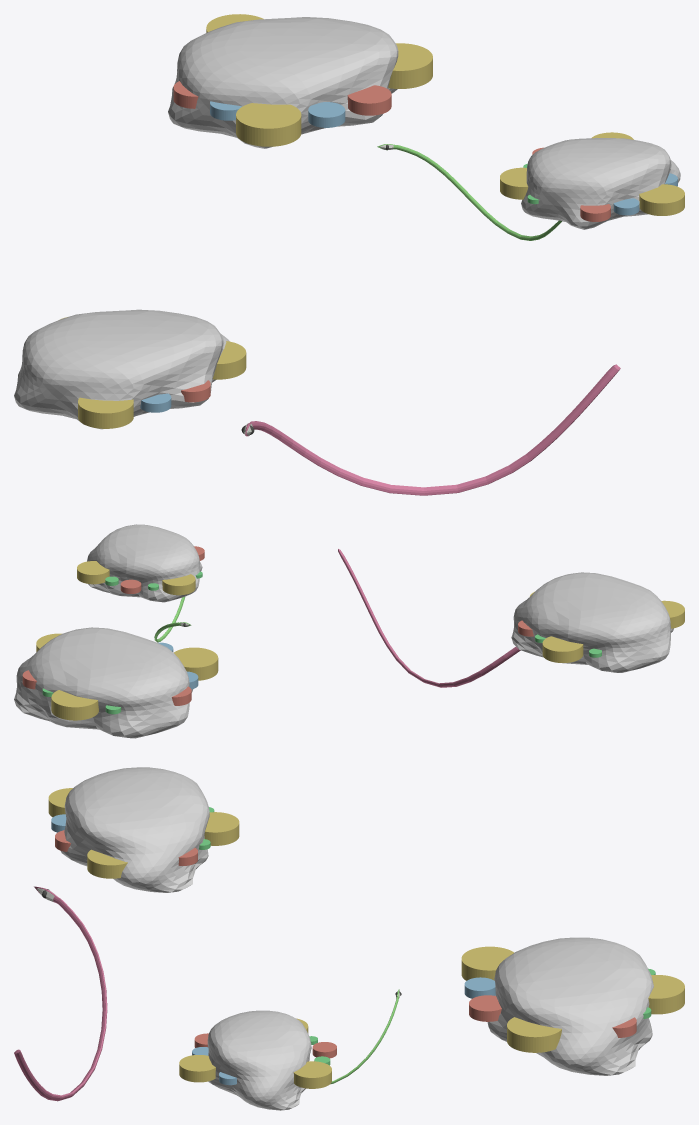
File: stage_2_6.fbx
3 renders of one model, top to bottom at view 1: azimuth 30°, elevation 25°; view 2: azimuth 150°, elevation 25°; view 3: azimuth 270°, elevation 25°, orthographic. The views are drawn at different scales.
Parts seen in each view (by area): view 1: 円柱.024, 円柱.025, 円柱.031, 立方体.006, 立方体.008; view 2: 円柱.024, 円柱.025, 円柱.031, 立方体.006, 立方体.008; view 3: 円柱.024, 円柱.025, 円柱.031, 立方体.006.
Part boxes in pixels (<box>): 円柱.024: <box>168,14,432,148</box>; 円柱.025: <box>14,309,246,429</box>; 円柱.031: <box>500,132,684,229</box>; 立方体.006: <box>241,364,620,495</box>; 立方体.008: <box>377,144,561,240</box>; 円柱.024: <box>14,627,218,738</box>; 円柱.025: <box>511,572,684,672</box>; 円柱.031: <box>77,524,204,602</box>; 立方体.006: <box>338,549,520,687</box>; 立方体.008: <box>154,597,191,642</box>; 円柱.024: <box>461,937,684,1075</box>; 円柱.025: <box>48,767,239,892</box>; 円柱.031: <box>179,1010,336,1110</box>; 立方体.006: <box>14,886,107,1101</box>.
Bounding box in the file's own units: 1944 × 549 × 1797.
